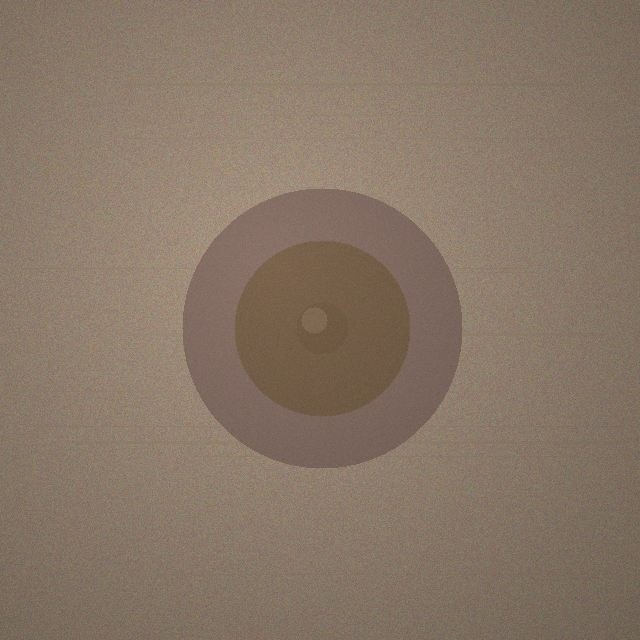good: (182, 188, 462, 468)
